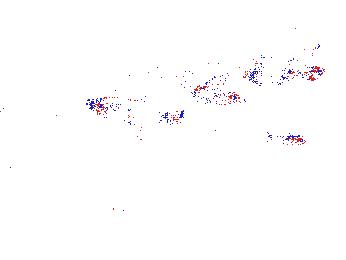red belly glassfish: (189, 85, 243, 107), (265, 130, 307, 147)
redtail glassfish: (85, 97, 186, 131), (107, 67, 194, 94), (244, 63, 326, 87)
